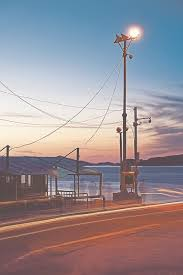beach: (69, 162, 183, 208)
house: (8, 146, 102, 227)
sky: (3, 5, 181, 158)
